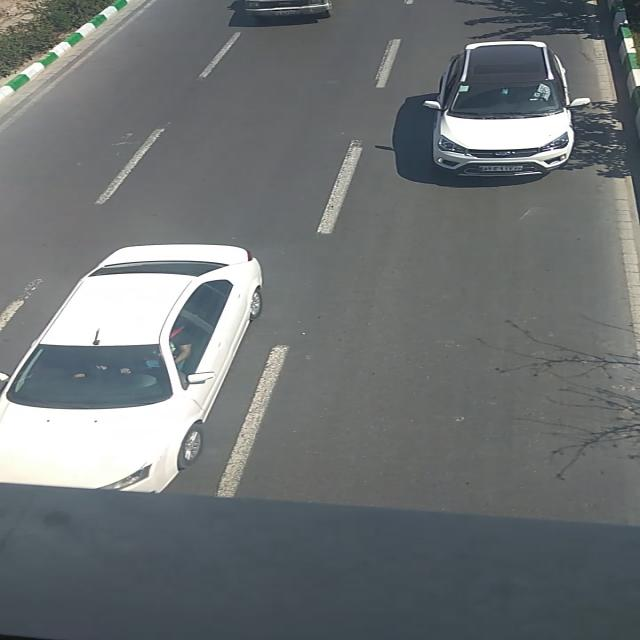car: (0, 243, 262, 492), (422, 39, 588, 177), (239, 0, 333, 18)
